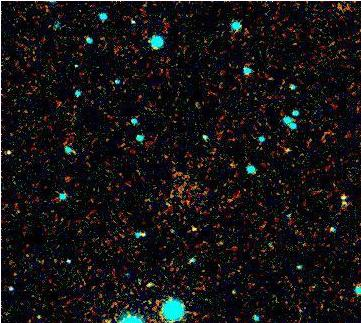star: (178, 212, 208, 242)
